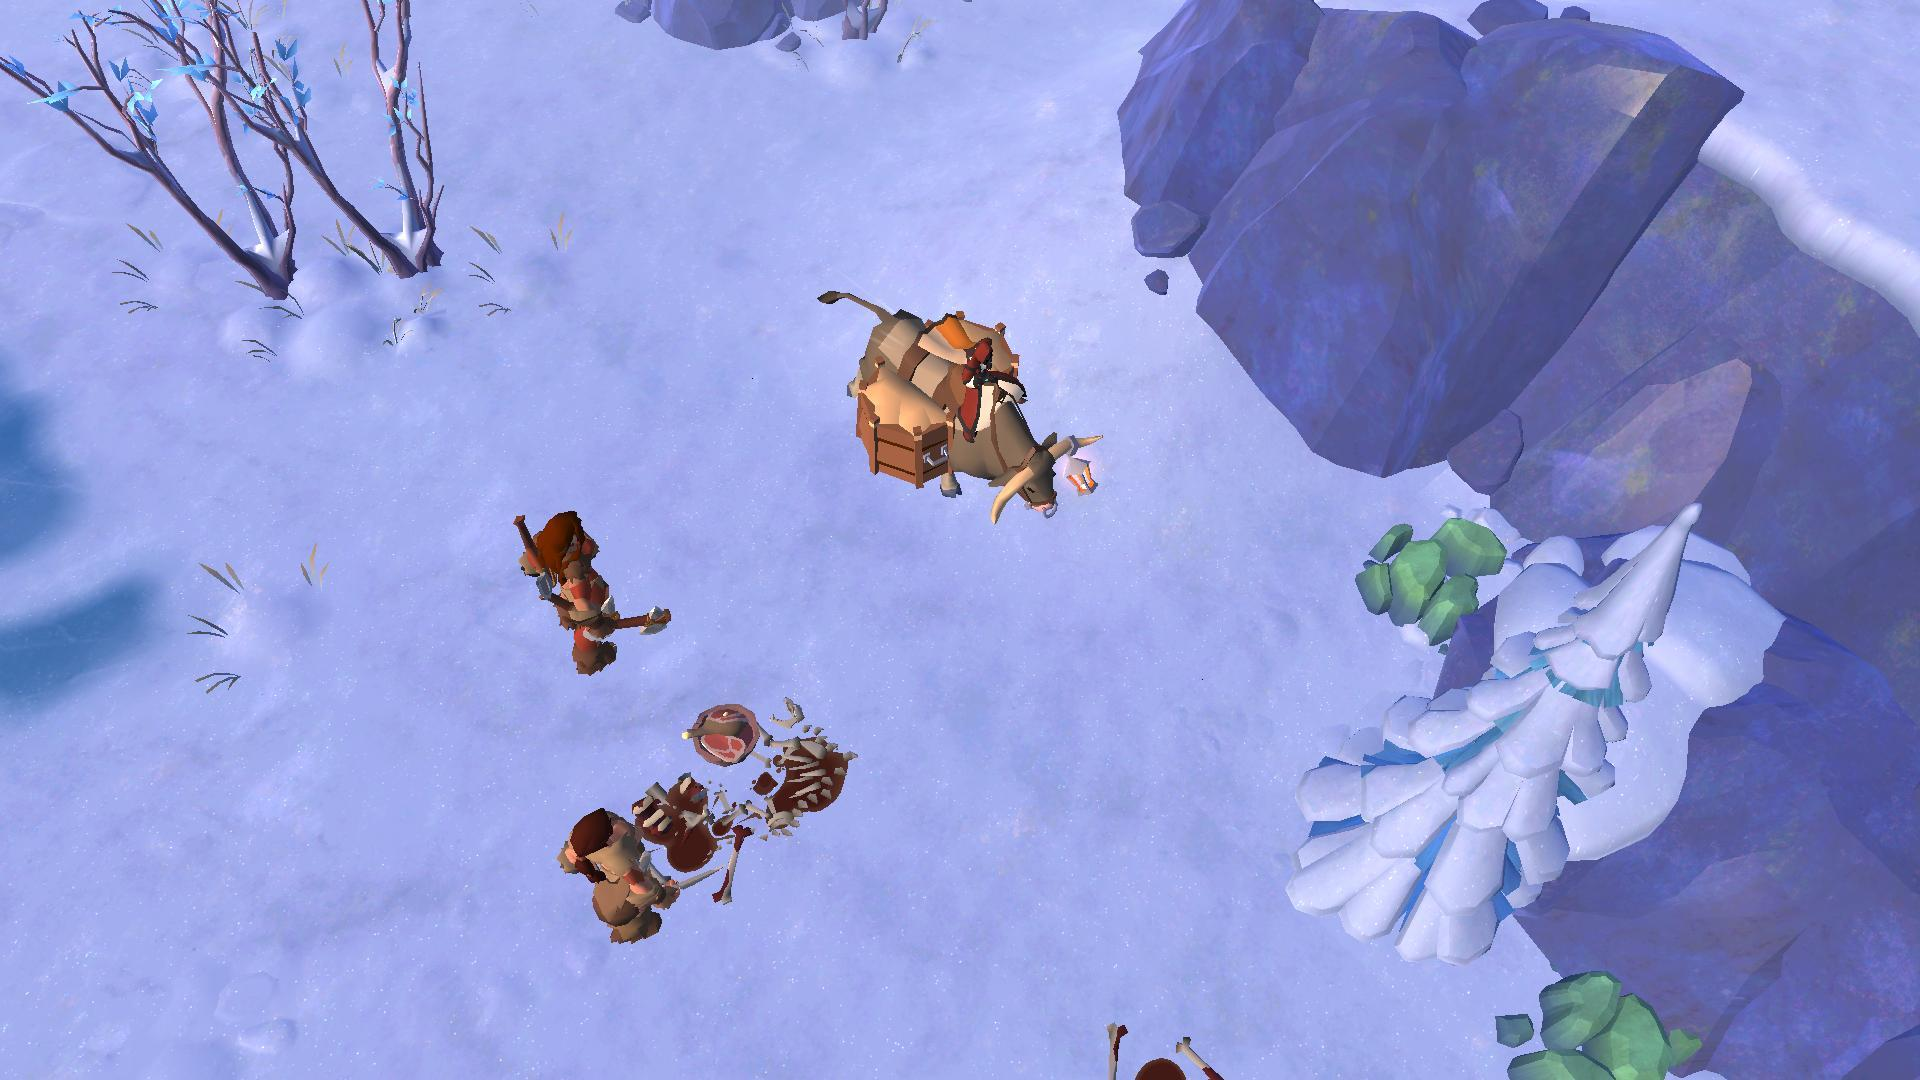enemy_factionKeeper: (509, 510, 661, 676)
rock_t3: (1481, 953, 1698, 1080), (1346, 502, 1501, 647)
